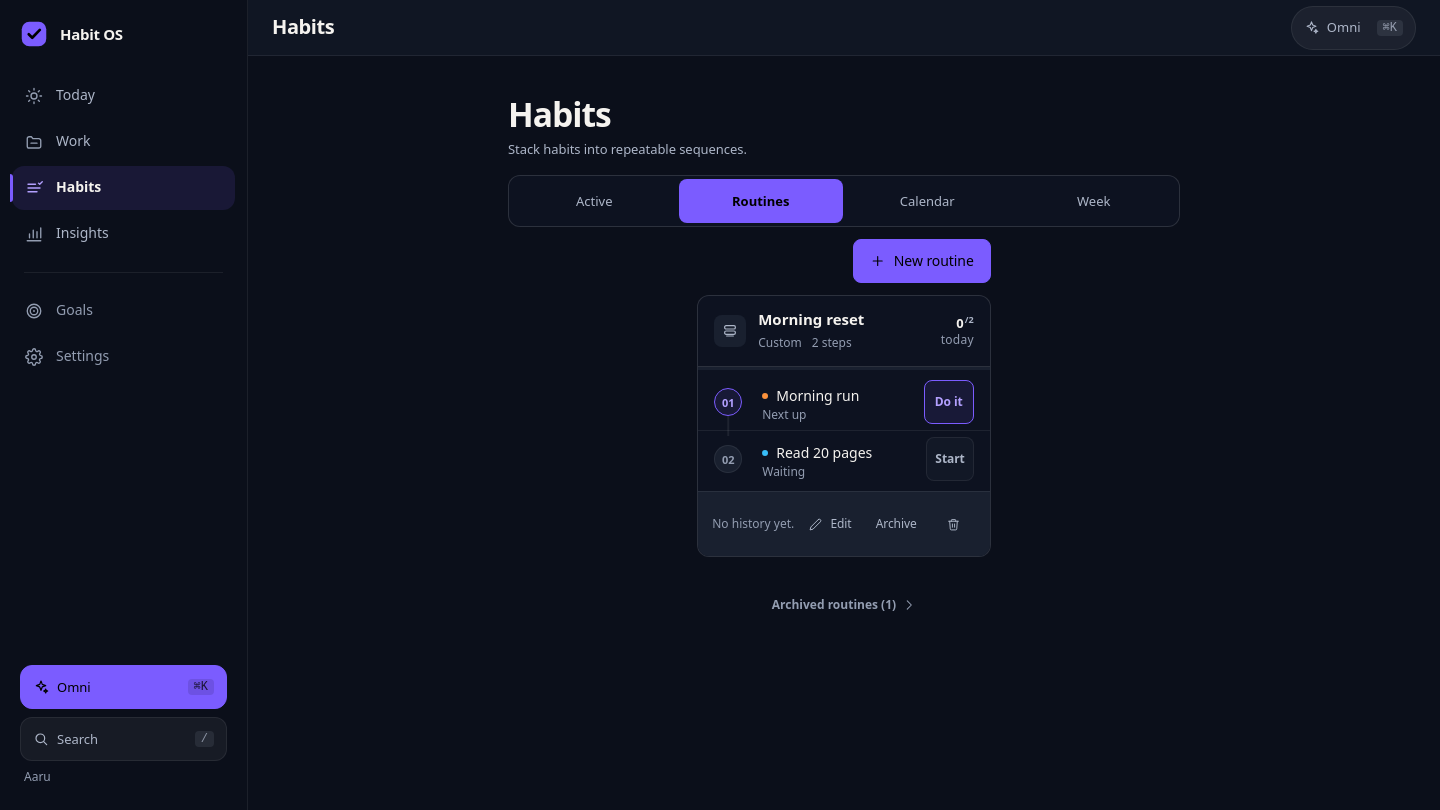
Test case: routines › archived routines live in a collapsed <details> with count in the summary
This screenshot has width=1440, height=810.
expect the element named "Routine Morning reset" is shown: met, box x1=697 y1=295 x2=991 y2=557
Click the heading "Archived routines (1)": [844, 605] box x1=772 y1=596 x2=916 y2=613
(page scrolled)
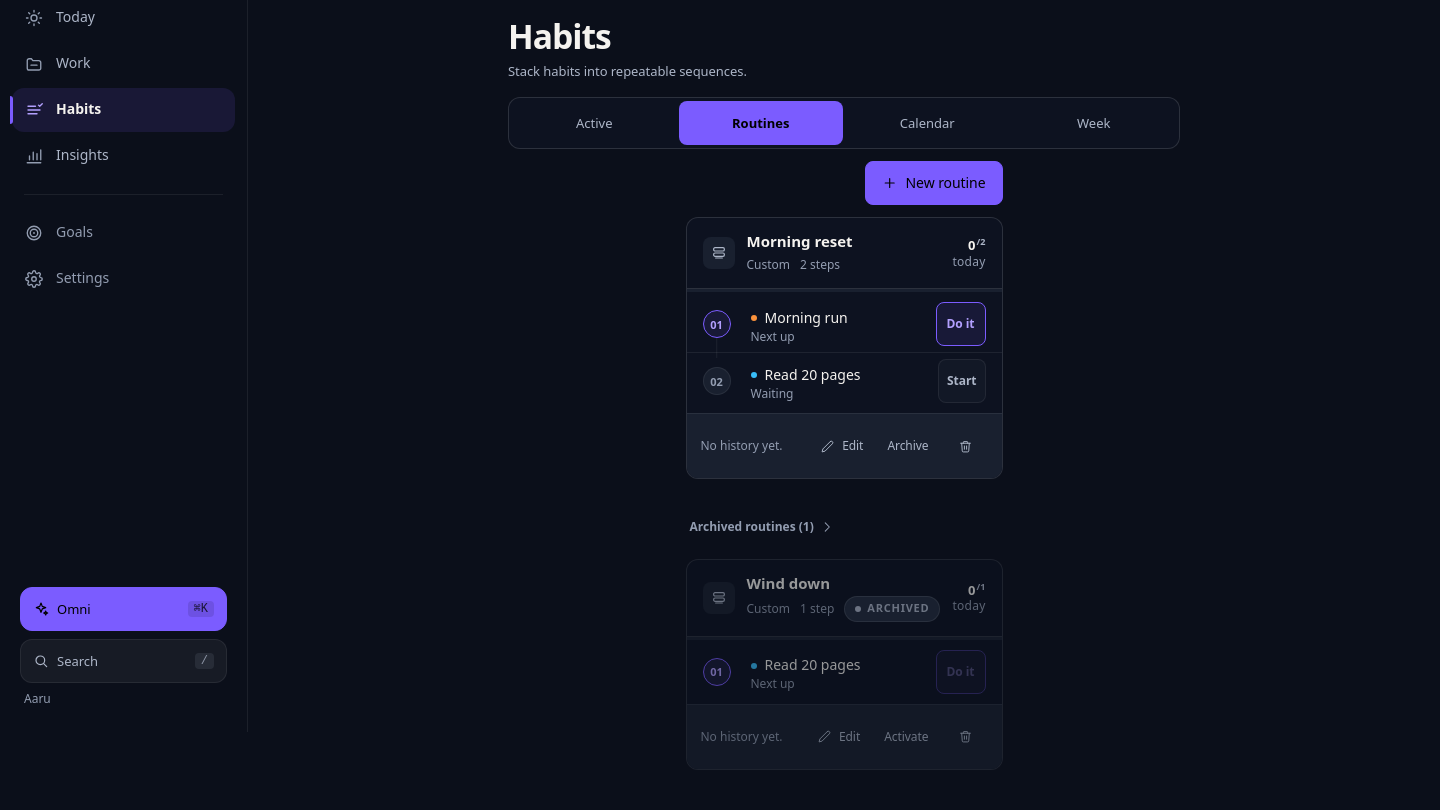
expect the element named "Routine Wind down" is shown: met, box x1=686 y1=559 x2=1002 y2=770
